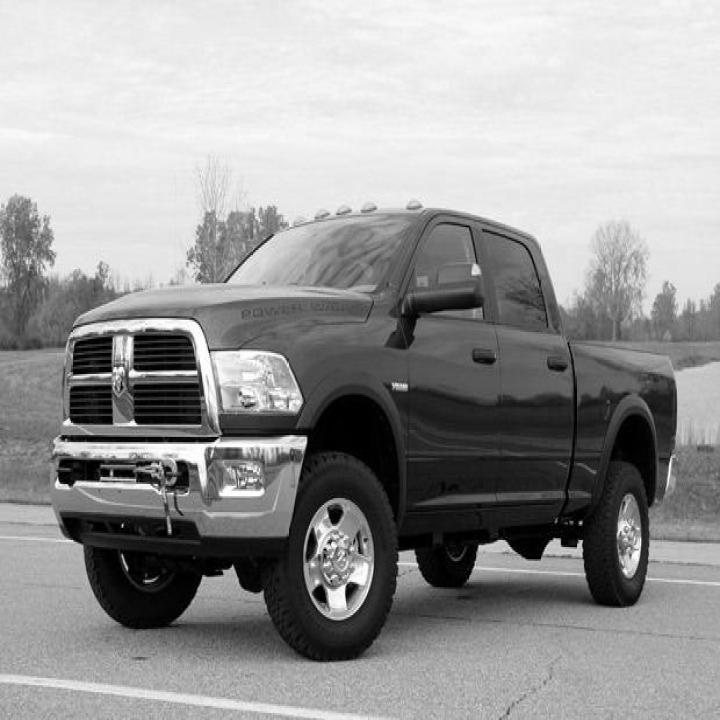car: (49, 197, 678, 662)
